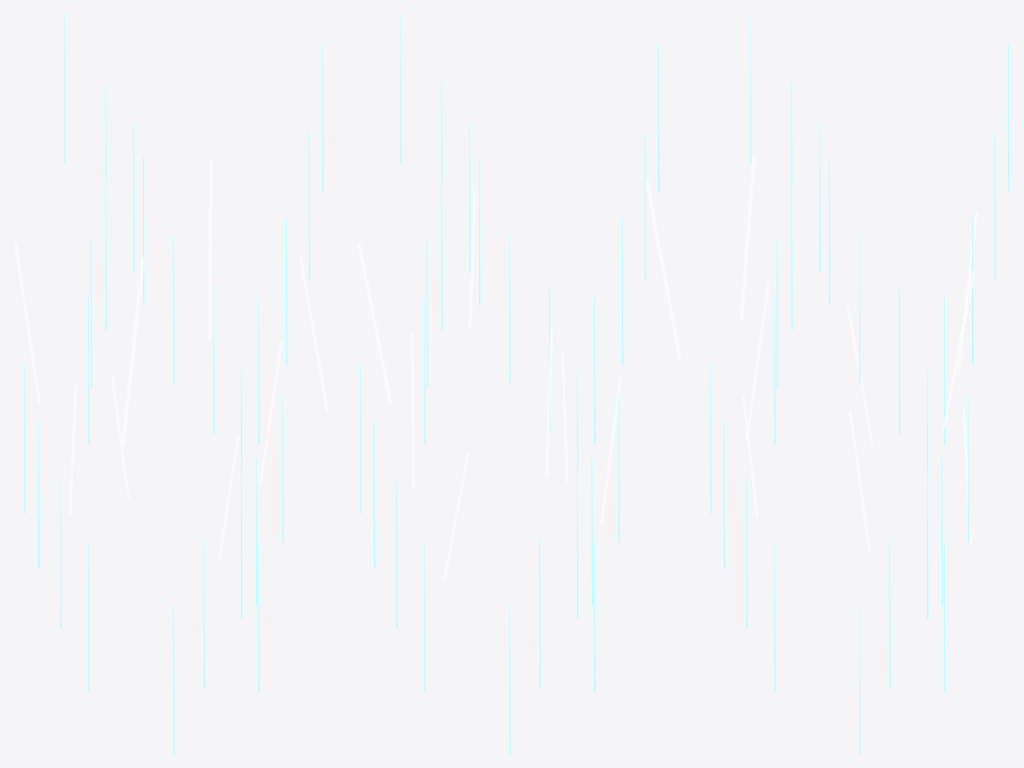
The model's file is warp_tunnel_shards.glb.
The picture shows the model from 3 angles, left to right: view 1: azimuth 30°, elevation 25°; view 2: azimuth 150°, elevation 25°; view 3: azimuth 270°, elevation 25°; orthographic projection.
Visible parts, largest first — view 1: HexShard_06, HexShard_02, HexShard_04, HexShard_08; view 2: HexShard_06, HexShard_02; view 3: HexShard_06, HexShard_02, HexShard_08, HexShard_04.
Boxes of the visible parts, x1,y1,x2,y2 form: HexShard_06: (121, 257, 144, 445); HexShard_02: (208, 160, 212, 341); HexShard_04: (14, 242, 40, 403); HexShard_08: (299, 257, 328, 411); HexShard_06: (646, 179, 681, 359); HexShard_02: (357, 243, 391, 403); HexShard_06: (739, 156, 755, 321); HexShard_02: (942, 270, 975, 429); HexShard_08: (745, 282, 769, 440); HexShard_04: (956, 212, 977, 376).
Size of the model in its own units: 12.82 by 30.8 by 12.82.
